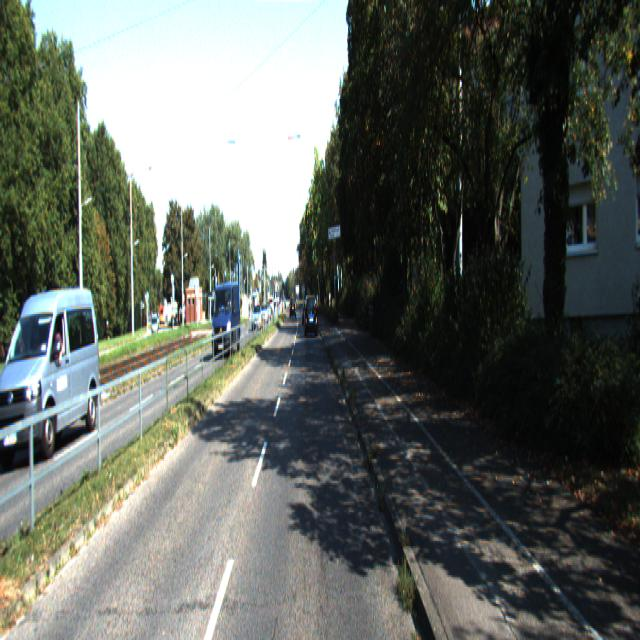Car: (0, 288, 102, 466), (212, 282, 240, 362), (305, 296, 319, 341)
